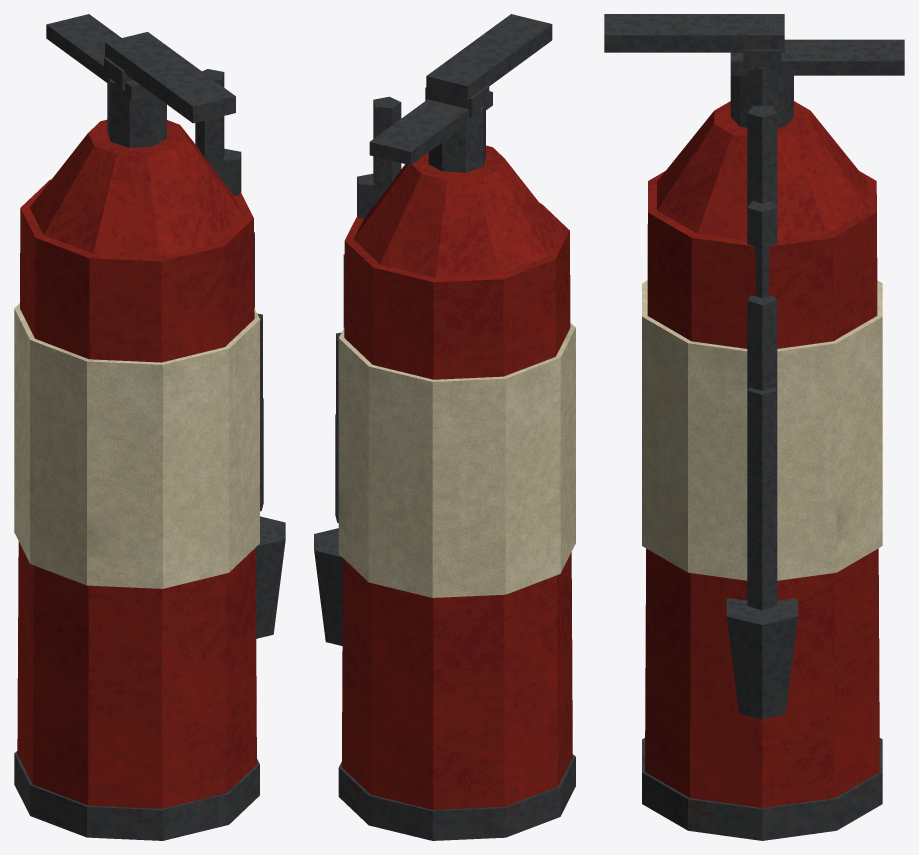
Rendered from fire_extinguisher.glb.
The picture shows the model from 3 angles, left to right: view 1: azimuth 30°, elevation 25°; view 2: azimuth 150°, elevation 25°; view 3: azimuth 270°, elevation 25°; orthographic projection. The views are drawn at different scales.
Visible parts, largest first — view 1: fire_extinguisher; view 2: fire_extinguisher; view 3: fire_extinguisher.
Boxes of the visible parts, x1=… form: fire_extinguisher: x1=14, y1=14, x2=285, y2=840; fire_extinguisher: x1=314, y1=14, x2=575, y2=840; fire_extinguisher: x1=604, y1=14, x2=904, y2=840.
Size of the model in its own units: 0.191 by 0.532 by 0.19.
3 materials, 3 textured.
